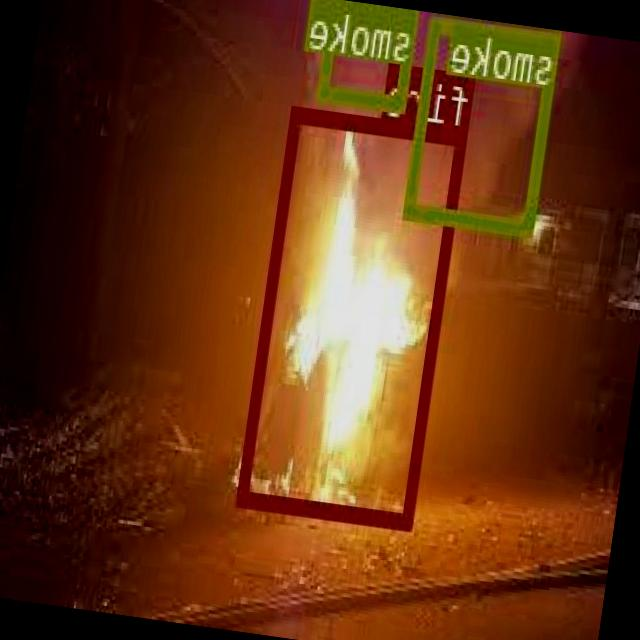fire: (238, 102, 471, 528)
smoke: (405, 16, 562, 234), (320, 0, 421, 111)
